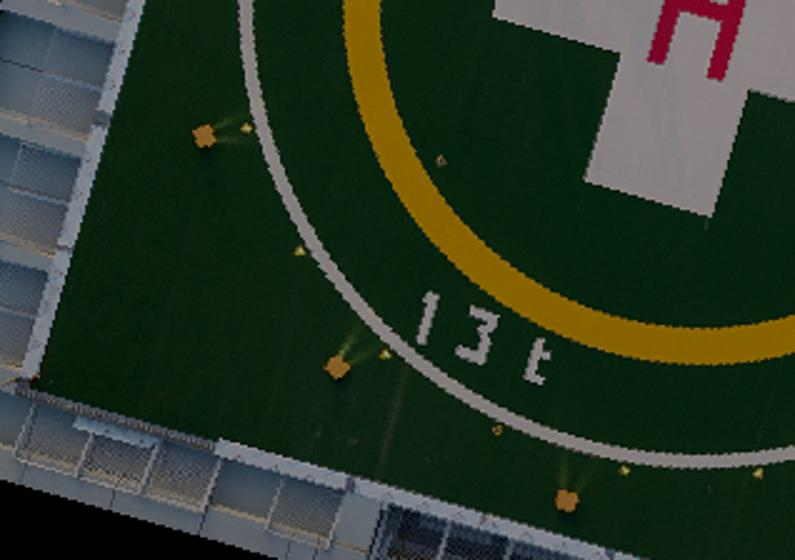Apron: (328, 3, 795, 365)
